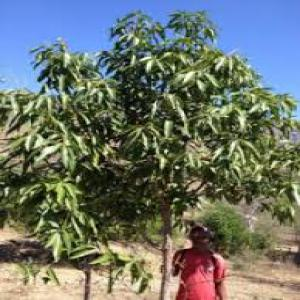Tree: (5, 9, 292, 299)
